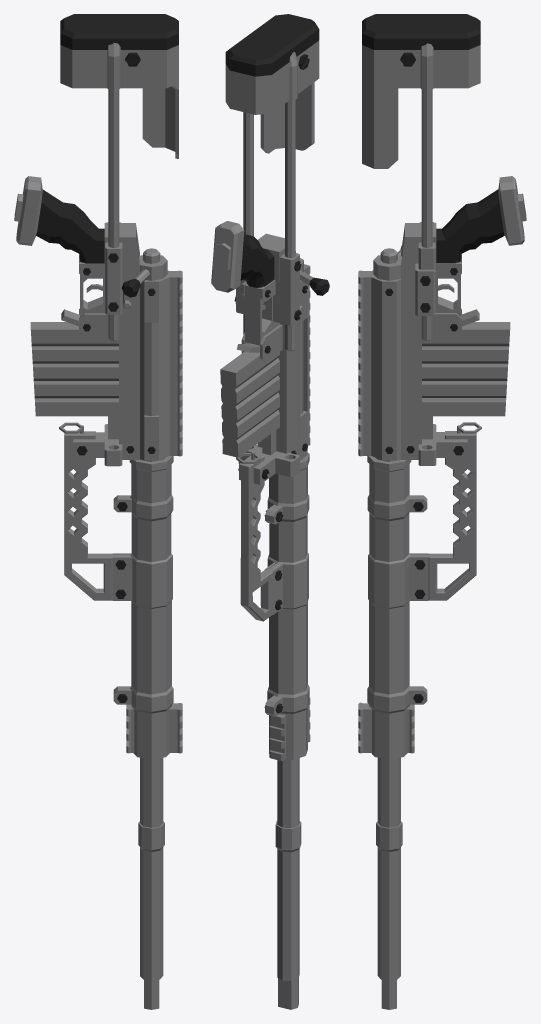
File: Sniperrifle.glb
3 views of the same model, side by side, from view 1: azimuth 90°, elevation 25°; view 2: azimuth 150°, elevation 25°; view 3: azimuth 270°, elevation 25° (orthographic).
Visible parts, largest first — view 1: Sniperrifle; view 2: Sniperrifle; view 3: Sniperrifle.
Boxes of the visible parts, x1,y1,x2,y2 form: Sniperrifle: (14, 14, 182, 1009); Sniperrifle: (211, 14, 329, 1009); Sniperrifle: (358, 14, 526, 1009).
Size of the model in its own units: 0.1027 by 1.15 by 0.1788.
Materials: 1 (1 with a texture image).
